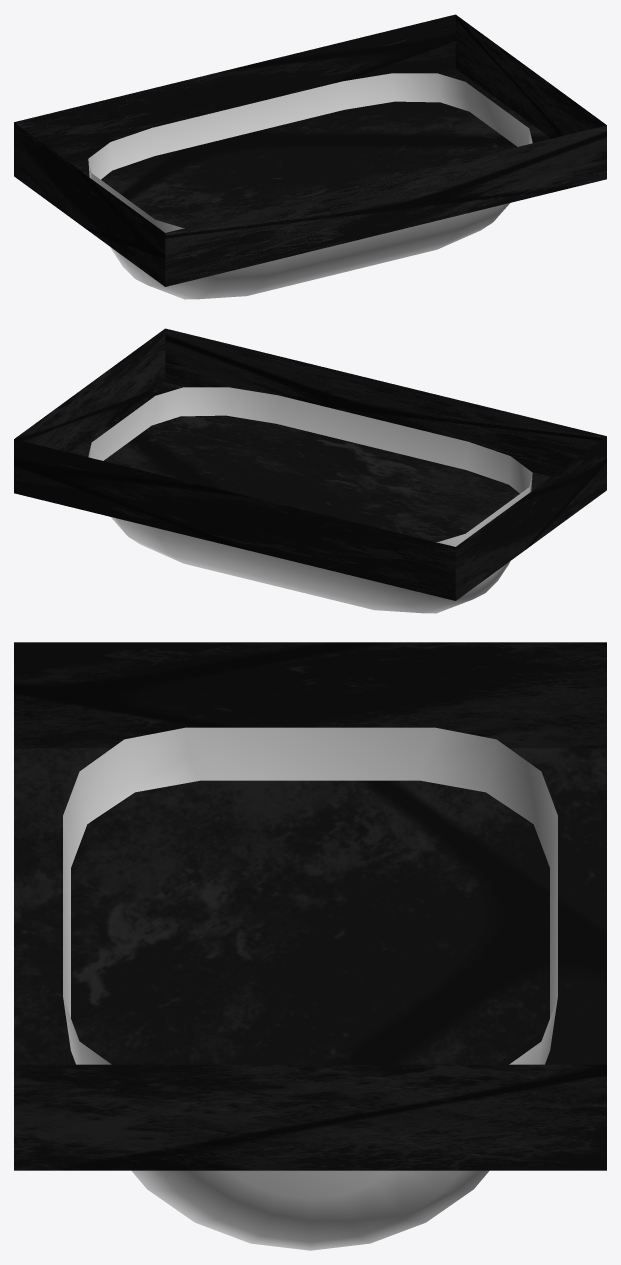
Rendered from LuzEmergencia.fbx.
3 views of the same model, one above another, from view 1: azimuth 30°, elevation 25°; view 2: azimuth 150°, elevation 25°; view 3: azimuth 270°, elevation 25° (orthographic). The views are drawn at different scales.
Visible parts, largest first — view 1: LuzEmergencia; view 2: LuzEmergencia; view 3: LuzEmergencia.
Boxes of the visible parts, box(x1,y1,x2,y2) form: LuzEmergencia: box(14, 14, 606, 299); LuzEmergencia: box(14, 328, 606, 613); LuzEmergencia: box(14, 642, 606, 1250).
Size of the model in its own units: 62.22 by 19.03 by 36.9.
